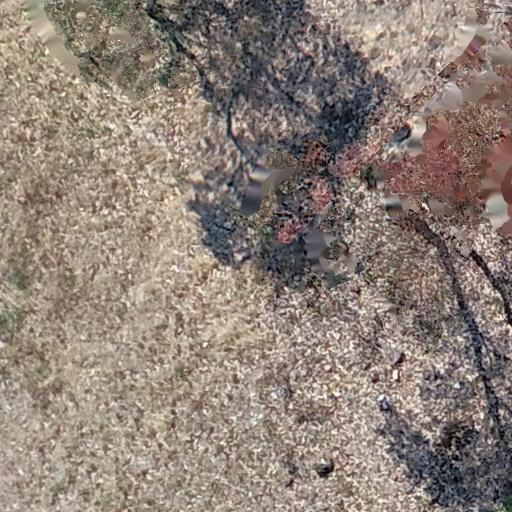stone: (316, 452, 334, 474), (389, 346, 402, 370), (320, 361, 334, 376), (391, 369, 400, 382), (378, 392, 387, 402)
